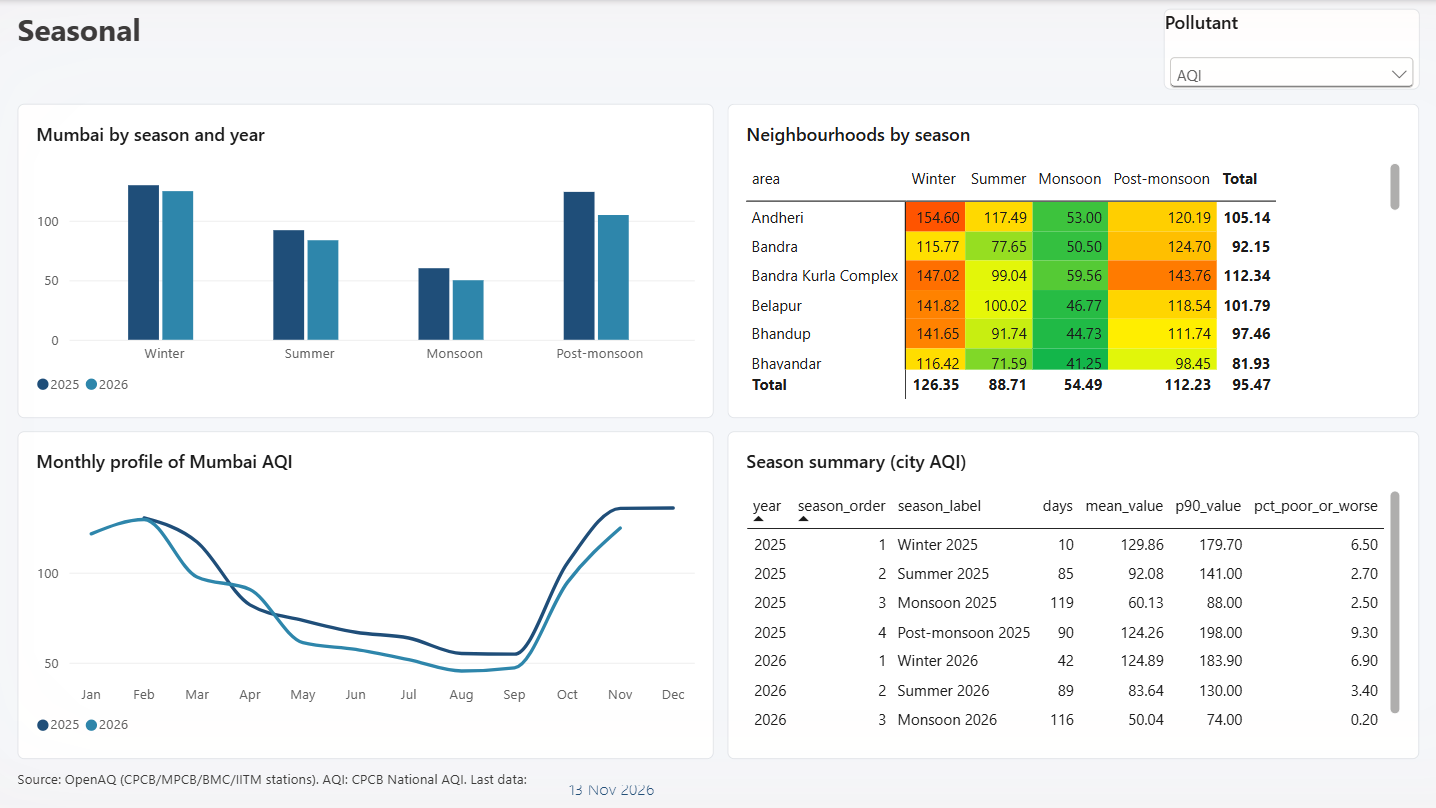

What the dashboard file says about the page in this screenshot:
{"tool":"powerbi","page":{"name":"Seasonal","canvas":[1280,720],"ordinal":3},"visuals":[{"type":"textbox","box":[16,8,600,48],"z":0},{"type":"textbox","box":[16,684,462,30],"z":1000},{"type":"card","fields":{"Values":["_Measures.Latest Day"]},"box":[470,678,150,40],"z":2000},{"type":"slicer","title":"Pollutant","fields":{"Values":["dim_pollutant.display_name"]},"box":[1036,8,228,72],"z":3000},{"type":"clusteredColumnChart","title":"Mumbai by season and year","fields":{"Category":["seasonal_patterns.season"],"Series":["seasonal_patterns.year"],"Y":["Avg(seasonal_patterns.mean_value)"]},"box":[16,92,620,280],"z":4000},{"type":"pivotTable","title":"Neighbourhoods by season","fields":{"Columns":["seasonal_patterns.season"],"Rows":["seasonal_patterns.area"],"Values":["Avg(seasonal_patterns.mean_value)"]},"box":[648,92,616,280],"z":5000},{"type":"lineChart","title":"Monthly profile of Mumbai AQI","fields":{"Category":["dim_date.month_name"],"Series":["dim_date.year"],"Y":["_Measures.City AQI"]},"box":[16,384,620,292],"z":6000},{"type":"tableEx","title":"Season summary (city AQI)","fields":{"Values":["seasonal_patterns.year","seasonal_patterns.season_order","seasonal_patterns.season_label","seasonal_patterns.days","seasonal_patterns.mean_value","seasonal_patterns.p90_value","seasonal_patterns.pct_poor_or_worse"]},"box":[648,384,616,292],"z":7000}]}

Visuals, with their boxes in screenshot pixels (x1, y1, x2, y2), scaled from the page's 1280x720 canvas onto the 1436x808 screenshot:
textbox: [x1=18, y1=9, x2=691, y2=63]
textbox: [x1=18, y1=768, x2=536, y2=801]
card - _Measures.Latest Day: [x1=527, y1=761, x2=696, y2=806]
"Pollutant" slicer: [x1=1162, y1=9, x2=1418, y2=90]
"Mumbai by season and year" clusteredColumnChart: [x1=18, y1=103, x2=714, y2=417]
"Neighbourhoods by season" pivotTable: [x1=727, y1=103, x2=1418, y2=417]
"Monthly profile of Mumbai AQI" lineChart: [x1=18, y1=431, x2=714, y2=759]
"Season summary (city AQI)" tableEx: [x1=727, y1=431, x2=1418, y2=759]
